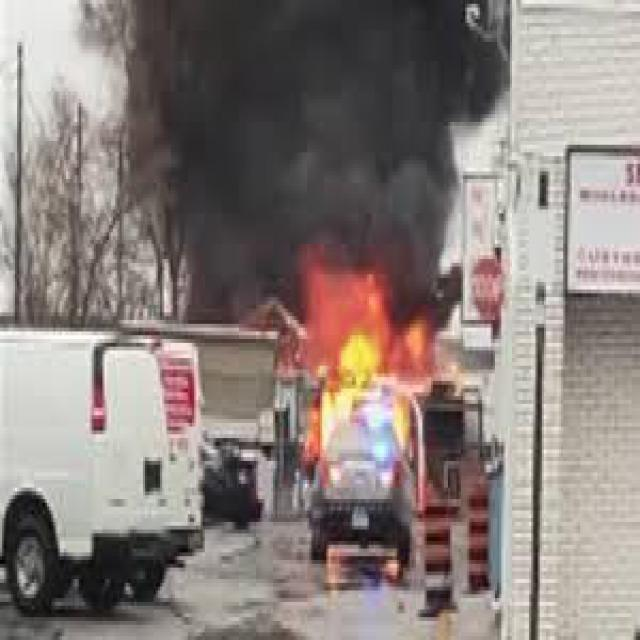fire: (277, 249, 439, 496)
